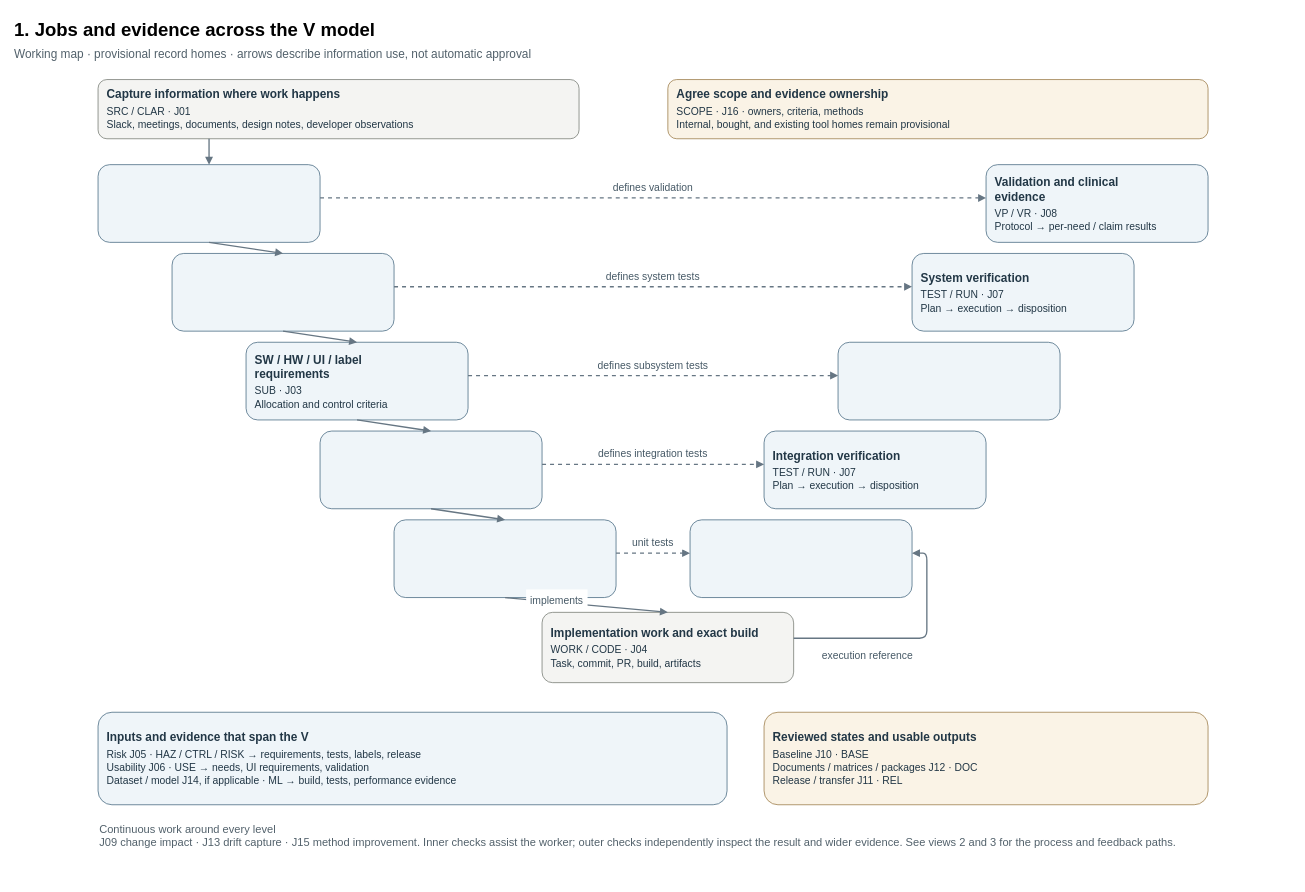
Image size: 1305x892. Some labels were removed from this diagram. The shapes that lost their labels are listed below. From the top down, each one's centre as x and y in pixels, then its label:
point (281, 151): source support
point (208, 203): User needs NEED · J02 User, outcome, intended use
point (282, 292): Product / system requirements SYS · J03 Behaviour and acceptance criteria
point (948, 381): Subsystem verification TEST / RUN · J07 Plan → execution → disposition
point (430, 469): Architecture and components ARCH · J04 Components and interfaces
point (504, 558): Detailed design DESIGN · J04 Units, decisions, rationale
point (800, 558): Unit verification TEST / RUN · J07 Plan → execution → disposition
